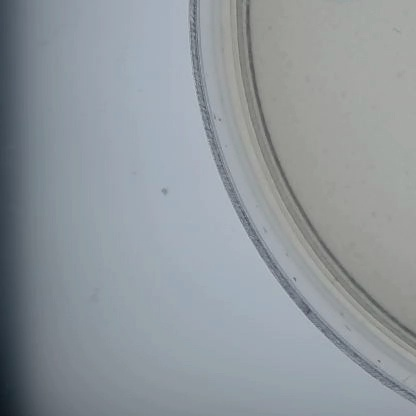worm: (387, 24, 405, 41)
